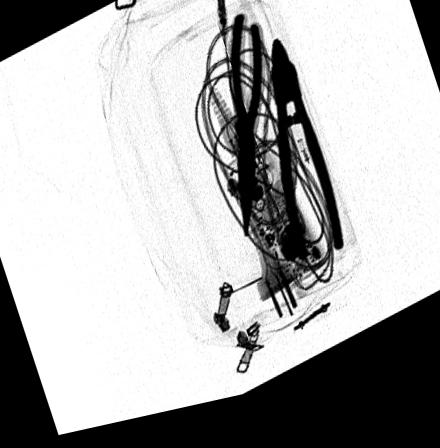Pliers: (265, 47, 346, 271), (229, 22, 264, 255)
